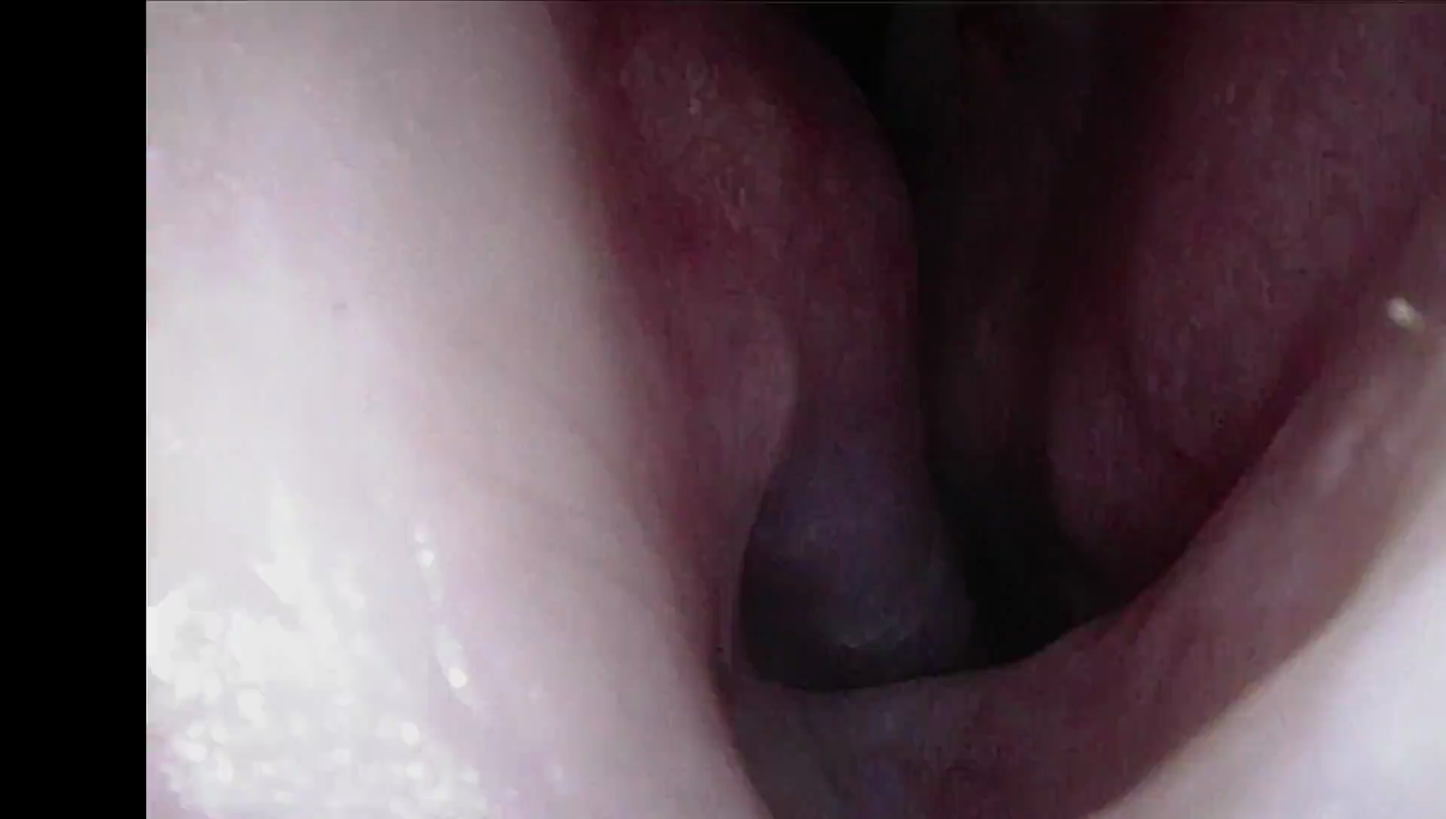close_wall: (160, 2, 749, 819), (1125, 476, 1446, 819)
next: (929, 427, 1095, 684), (724, 520, 912, 672), (894, 84, 983, 334), (949, 0, 1077, 92)
